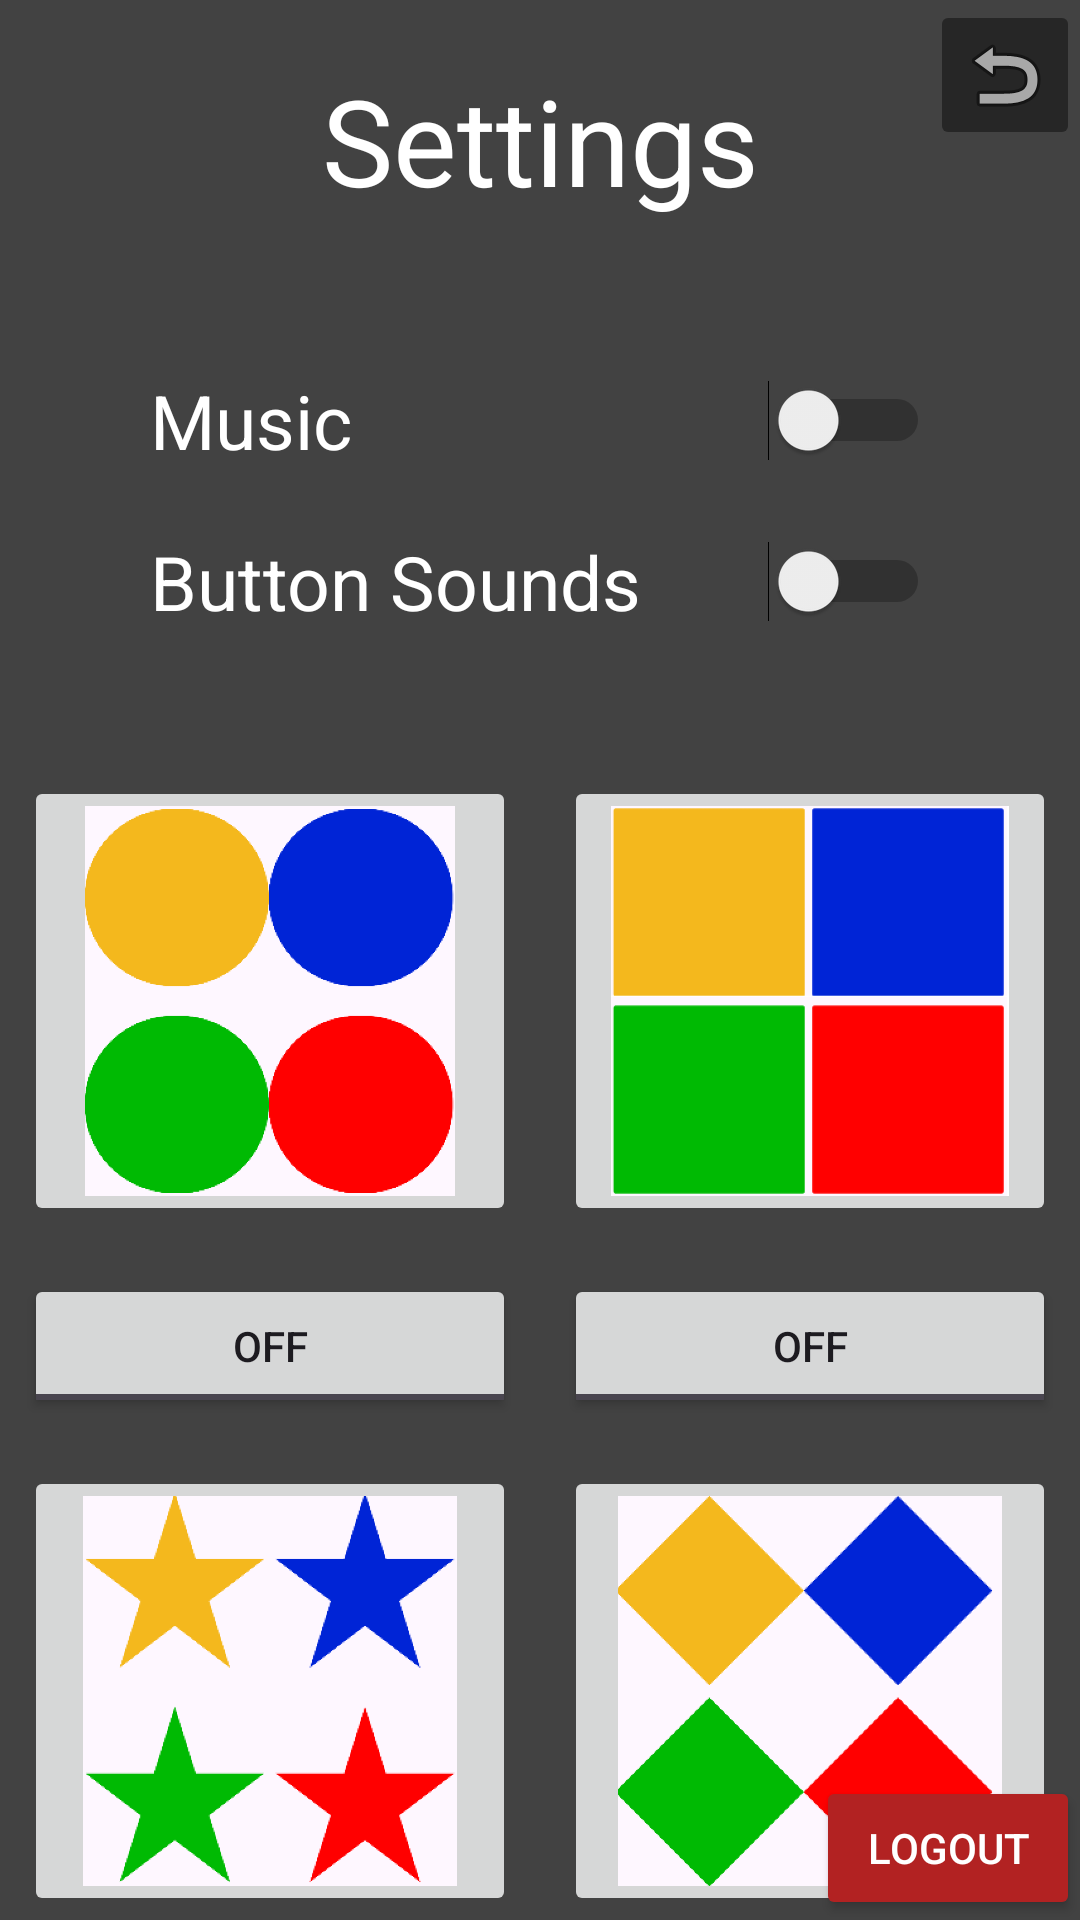

Screen size 1080×1920. Icon name, then its center in pixels as (x,y):
revert: (1005,75)
